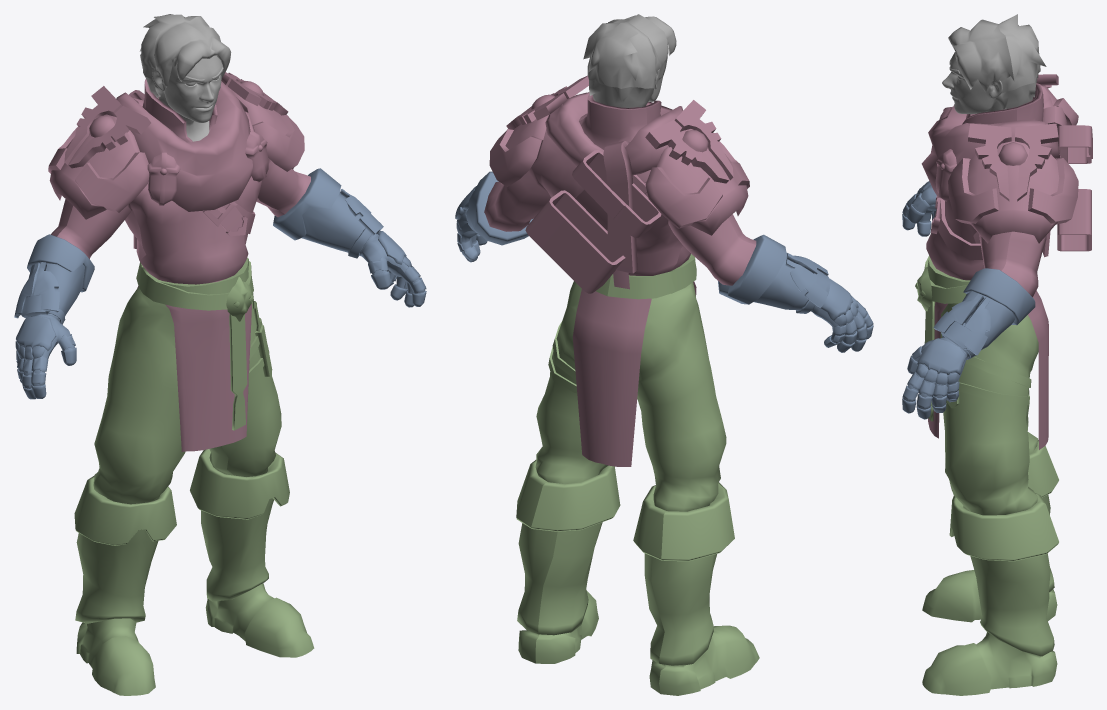
The model's file is char_main.fbx.
3 views of the same model, side by side, from view 1: azimuth 30°, elevation 25°; view 2: azimuth 150°, elevation 25°; view 3: azimuth 270°, elevation 25° (orthographic). The views are drawn at different scales.
Parts seen in each view (by area): view 1: char_main; view 2: char_main; view 3: char_main.
Boxes of the visible parts, left/top/right/bottom form: char_main: left=14, top=14, right=426, bottom=695; char_main: left=455, top=14, right=873, bottom=695; char_main: left=902, top=14, right=1092, bottom=695.
Bounding box in the file's own units: 61.84 × 93.77 × 25.98.
